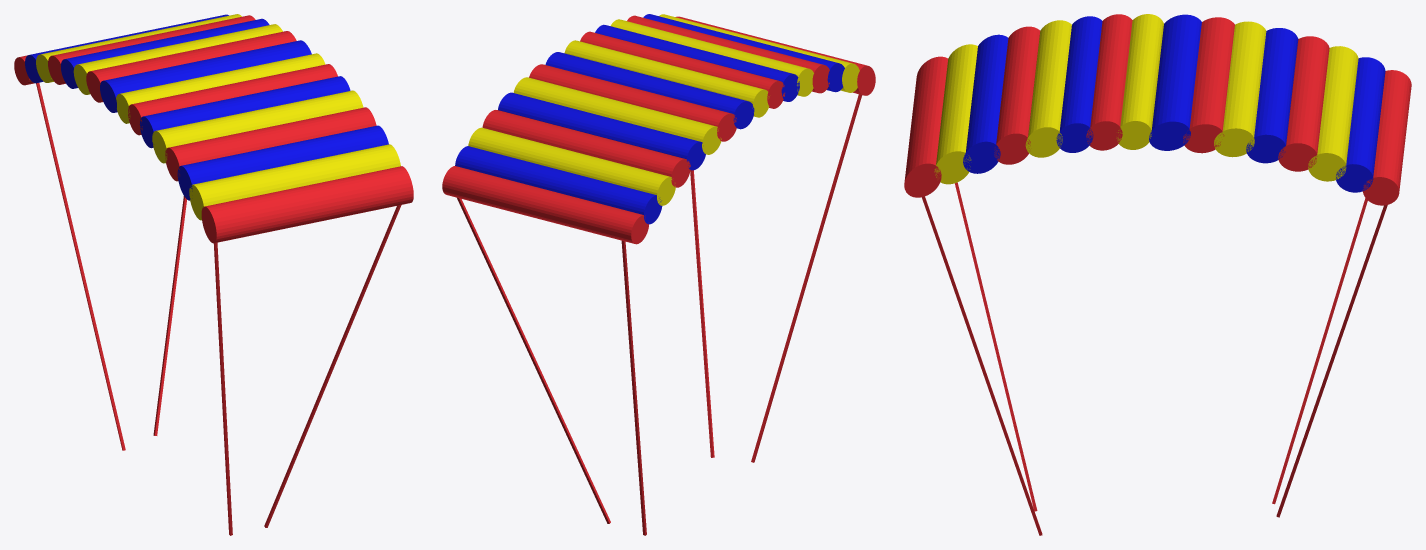
3 views of the same model, side by side, from view 1: azimuth 30°, elevation 25°; view 2: azimuth 150°, elevation 25°; view 3: azimuth 270°, elevation 25° (orthographic). The views are drawn at different scales.
Parts seen in each view (by area): view 1: Cylinder.006, Cylinder.007, Cylinder.002, Cylinder.003, Cylinder, Cylinder.001, Cylinder.014, Cylinder.004, Cylinder.005, Cylinder.015, Cylinder.010, Cylinder.011 (+7 smaller); view 2: Cylinder.013, Cylinder.012, Cylinder.009, Cylinder.008, Cylinder.011, Cylinder.010, Cylinder.015, Cylinder.014, Cylinder.005, Cylinder.004, Cylinder.001, Cylinder (+8 smaller); view 3: Cylinder.014, Cylinder.015, Cylinder.011, Cylinder.010, Cylinder.008, Cylinder, Cylinder.005, Cylinder.003, Cylinder.006, Cylinder.009, Cylinder.001, Cylinder.002 (+8 smaller).
Part boxes in pixels (<box>): Cylinder.006: <box>201,166,413,243</box>; Cylinder.007: <box>189,144,400,220</box>; Cylinder.002: <box>177,125,388,200</box>; Cylinder.003: <box>165,107,376,181</box>; Cylinder: <box>152,90,363,163</box>; Cylinder.001: <box>139,76,350,148</box>; Cylinder.014: <box>100,40,311,112</box>; Cylinder.004: <box>128,64,337,135</box>; Cylinder.005: <box>116,53,325,123</box>; Cylinder.015: <box>86,31,296,102</box>; Cylinder.010: <box>73,24,282,94</box>; Cylinder.011: <box>61,18,269,88</box>; Cylinder.013: <box>442,166,648,244</box>; Cylinder.012: <box>455,146,662,224</box>; Cylinder.009: <box>468,127,675,205</box>; Cylinder.008: <box>482,110,690,187</box>; Cylinder.011: <box>498,92,705,170</box>; Cylinder.010: <box>513,77,721,154</box>; Cylinder.015: <box>529,64,736,141</box>; Cylinder.014: <box>545,52,754,129</box>; Cylinder.005: <box>564,40,769,117</box>; Cylinder.004: <box>580,31,785,108</box>; Cylinder.001: <box>595,24,799,101</box>; Cylinder: <box>610,19,813,96</box>; Cylinder.014: <box>1149,14,1201,150</box>; Cylinder.015: <box>1183,17,1234,153</box>; Cylinder.011: <box>1246,28,1298,163</box>; Cylinder.010: <box>1214,21,1266,157</box>; Cylinder.008: <box>1278,36,1329,171</box>; Cylinder: <box>1025,20,1071,157</box>; Cylinder.005: <box>1116,14,1163,149</box>; Cylinder.003: <box>994,26,1040,164</box>; Cylinder.006: <box>904,56,947,197</box>; Cylinder.009: <box>1308,46,1358,181</box>; Cylinder.001: <box>1056,16,1102,152</box>; Cylinder.002: <box>963,34,1008,173</box>.
Bounding box in the file's own units: 1718 × 3277 × 3209.
